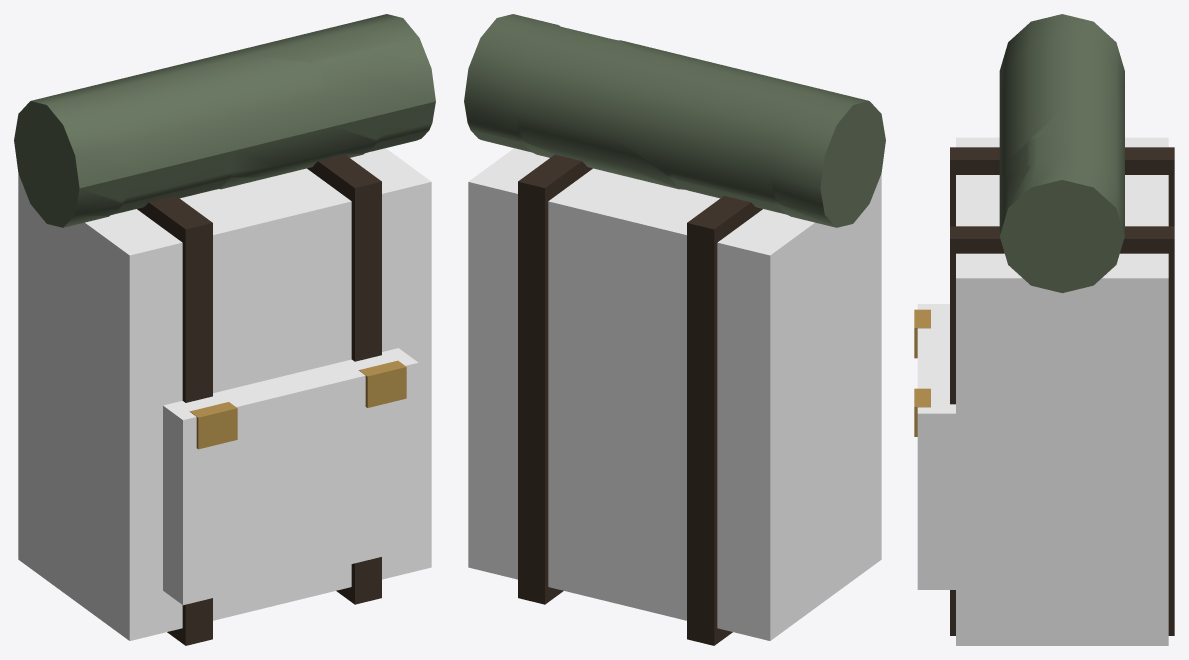
Rendered from backpack_expedition.glb.
The picture shows the model from 3 angles, left to right: view 1: azimuth 30°, elevation 25°; view 2: azimuth 150°, elevation 25°; view 3: azimuth 270°, elevation 25°; orthographic projection. The views are drawn at different scales.
Parts seen in each view (by area): view 1: Body, Bedroll, FrontPocket, Strap, Strap2, Buckle2, Buckle; view 2: Body, Bedroll, Strap, Strap2; view 3: Body, Bedroll, FrontPocket, Strap2, Strap, Buckle, Buckle2.
Boxes of the visible parts, x1=… form: Body: x1=18, y1=148, x2=431, y2=640; Bedroll: x1=14, y1=14, x2=435, y2=227; FrontPocket: x1=163, y1=348, x2=418, y2=605; Strap: x1=137, y1=196, x2=212, y2=645; Strap2: x1=307, y1=154, x2=381, y2=604; Buckle2: x1=358, y1=360, x2=406, y2=407; Buckle: x1=189, y1=402, x2=237, y2=449; Body: x1=468, y1=148, x2=881, y2=640; Bedroll: x1=464, y1=14, x2=885, y2=227; Strap: x1=687, y1=196, x2=762, y2=645; Strap2: x1=518, y1=154, x2=592, y2=604; Body: x1=956, y1=137, x2=1168, y2=645; Bedroll: x1=999, y1=14, x2=1124, y2=293; FrontPocket: x1=917, y1=304, x2=955, y2=589; Strap2: x1=950, y1=226, x2=1174, y2=635; Strap: x1=950, y1=147, x2=1174, y2=226; Buckle: x1=914, y1=309, x2=930, y2=358; Buckle2: x1=914, y1=388, x2=930, y2=436.
Size of the model in its own units: 0.59 by 0.8184 by 0.3915.
